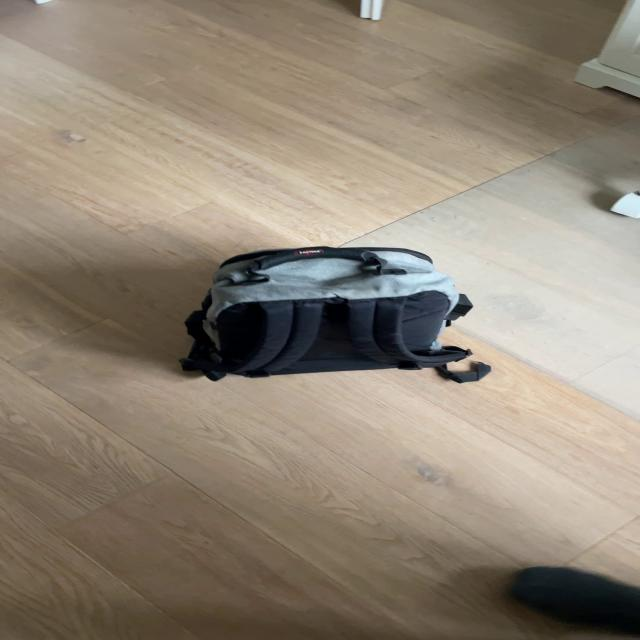backpack: (180, 243, 489, 378)
